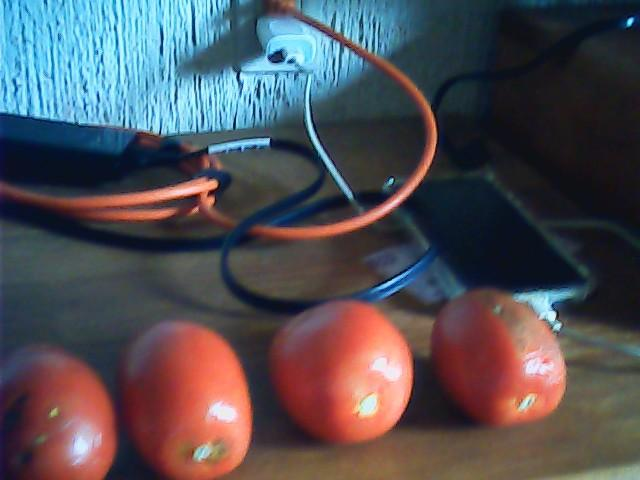defectuoso: (119, 312, 251, 479), (429, 291, 570, 429), (3, 352, 119, 479)
maduro: (268, 301, 414, 450)
